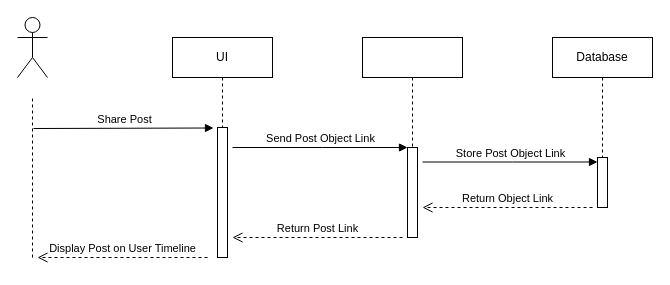
Some shapes in this 670 by 285 pixel diagram are drawn without their labels. Here are the shapes that lost their labels. From the top down, the centre of each, then its label:
At point 32,47: "User".
At point 412,137: "API".
